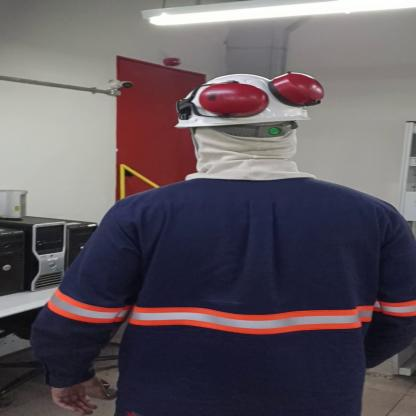Balaclava: (174, 122, 326, 188)
Capacete: (161, 70, 318, 130)
